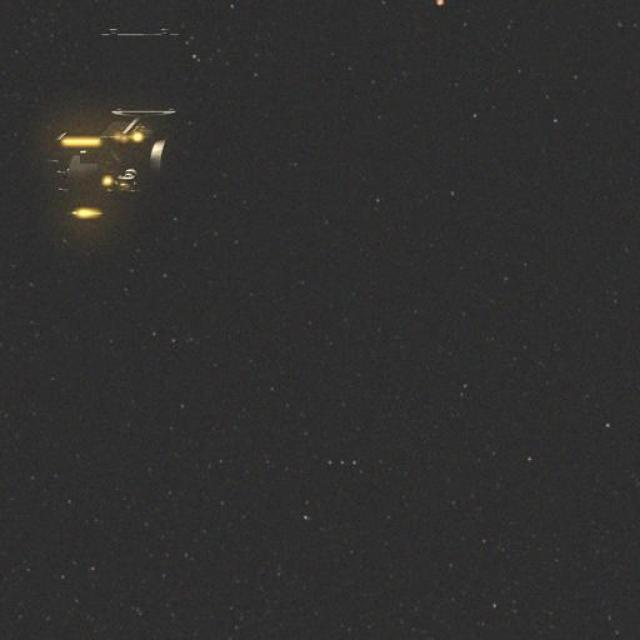earth_observation_sat_1: (43, 98, 203, 242)
